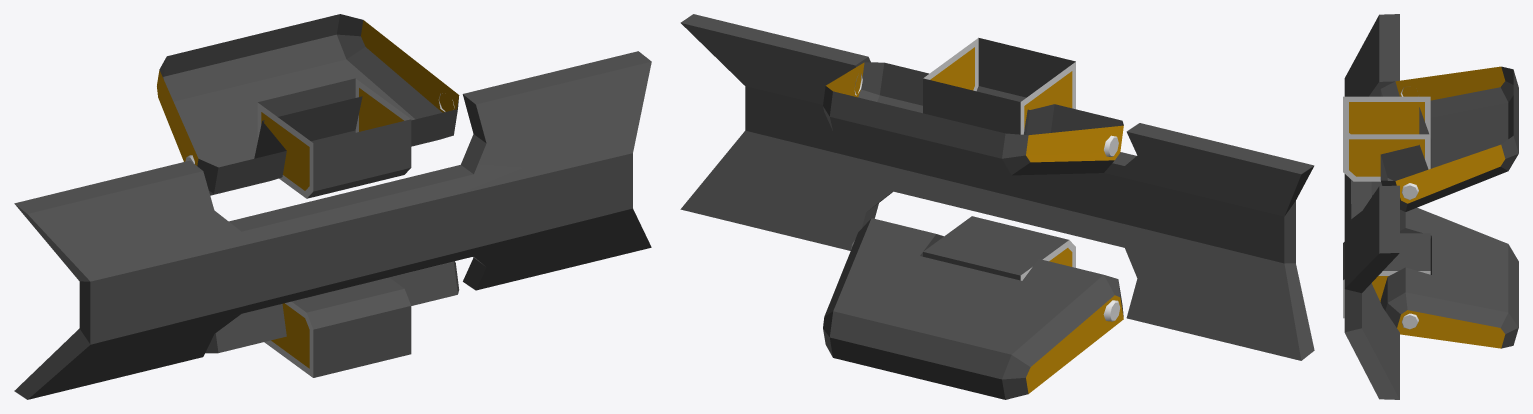
The model's file is env_building_warehouse01hinge_lod1.fbx.
The picture shows the model from 3 angles, left to right: view 1: azimuth 30°, elevation 25°; view 2: azimuth 150°, elevation 25°; view 3: azimuth 270°, elevation 25°; orthographic projection. The views are drawn at different scales.
Visible parts, largest first — view 1: polySurface1079; view 2: polySurface1079; view 3: polySurface1079.
Part boxes in pixels (box(x1,y1,x2,y2)): polySurface1079: box(14, 14, 651, 399); polySurface1079: box(680, 14, 1314, 399); polySurface1079: box(1343, 14, 1518, 399).
Bounding box in the file's own units: 126 × 51.56 × 39.1.
